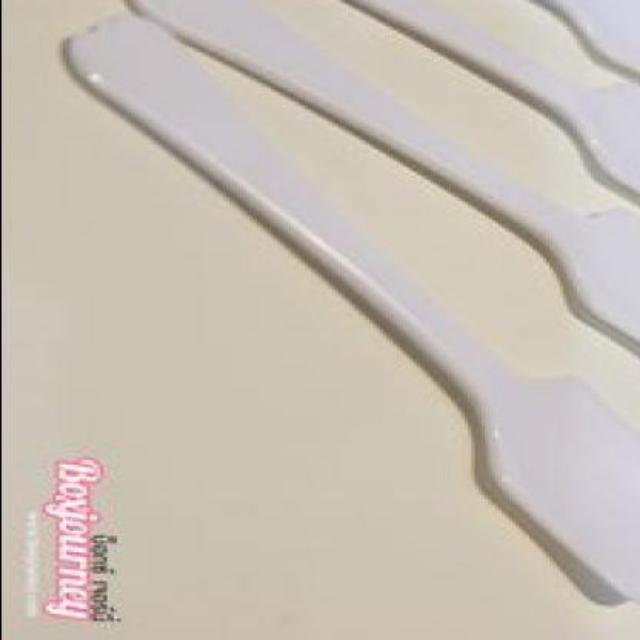plastic_cultery: (62, 0, 638, 606)
